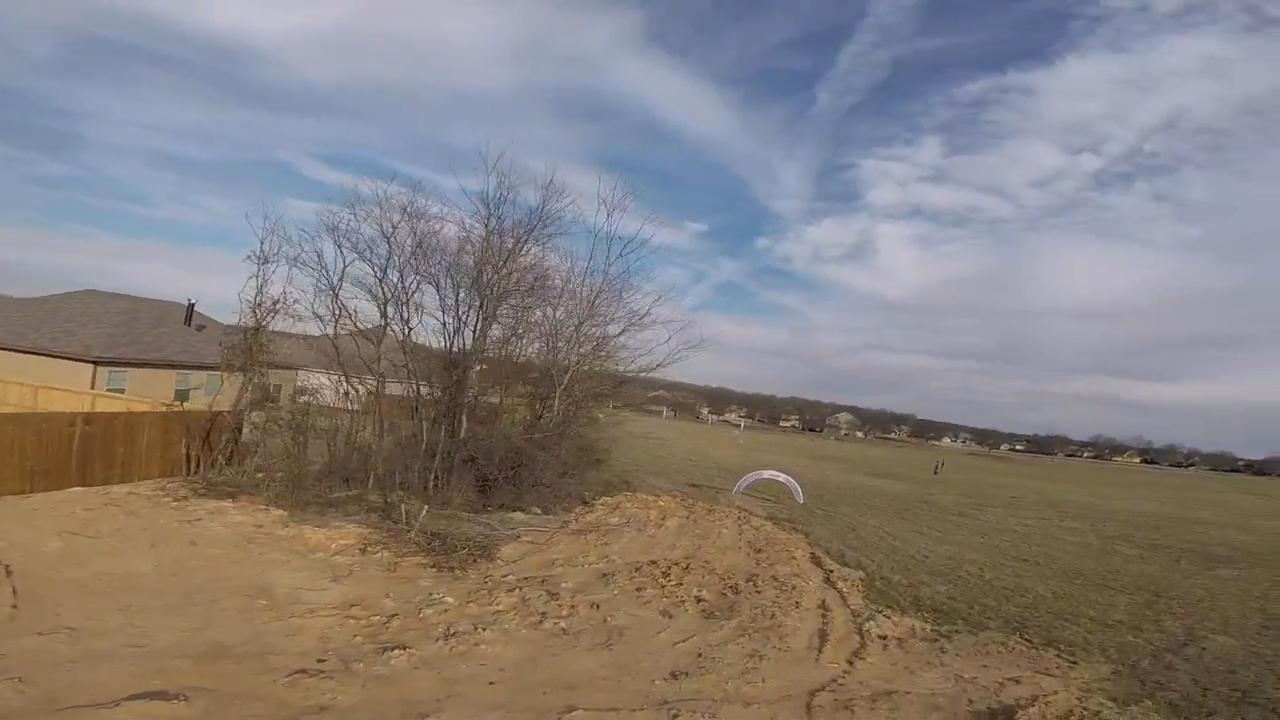gate: (735, 467, 805, 513)
